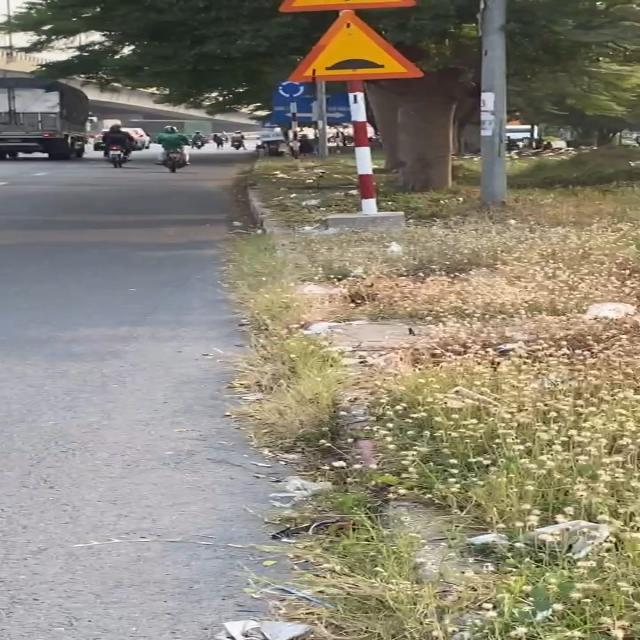221-duong-go-ghe: (284, 9, 425, 80)
303-noi-giao-nhau-chay-theo-vong-xuyen: (276, 79, 308, 100)
